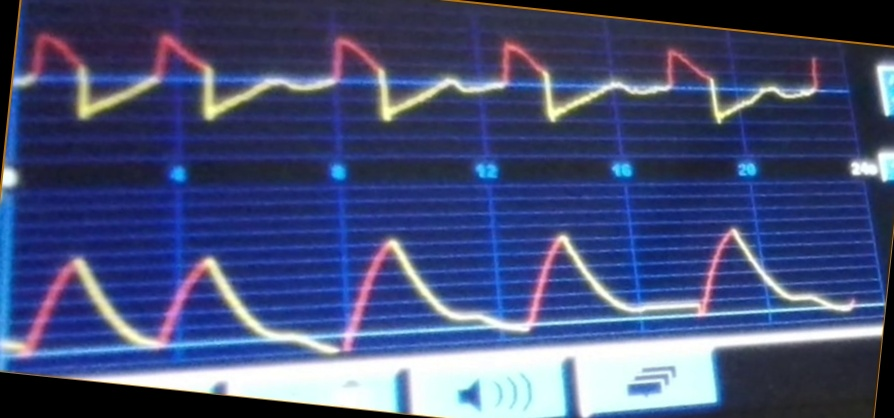Ineffective_effort Flow: (21, 26, 819, 132)
Ineffective_effort Volume: (11, 225, 856, 356)
